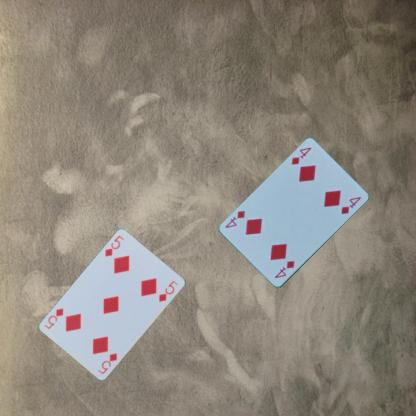4d: (271, 258, 296, 280), (289, 145, 312, 166)
5d: (95, 350, 118, 376), (102, 233, 125, 258)
